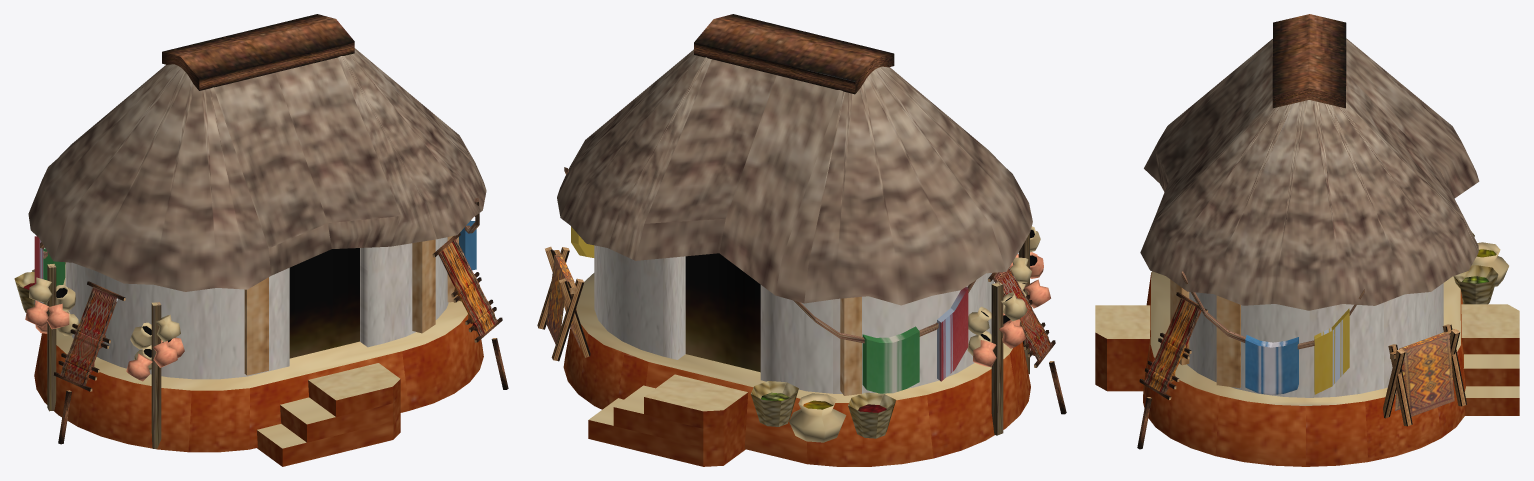
File: house_2.dae
The picture shows the model from 3 angles, left to right: view 1: azimuth 30°, elevation 25°; view 2: azimuth 150°, elevation 25°; view 3: azimuth 270°, elevation 25°; orthographic projection. The views are drawn at different scales.
Parts seen in each view (by area): view 1: house_2; view 2: house_2; view 3: house_2.
Part boxes in pixels (bbox=[...]): house_2: bbox=[14, 14, 508, 466]; house_2: bbox=[537, 14, 1066, 466]; house_2: bbox=[1095, 14, 1519, 466].
Bounding box in the file's own units: 13.55 × 11.75 × 9.82.
Materials: 1 (1 with a texture image).
